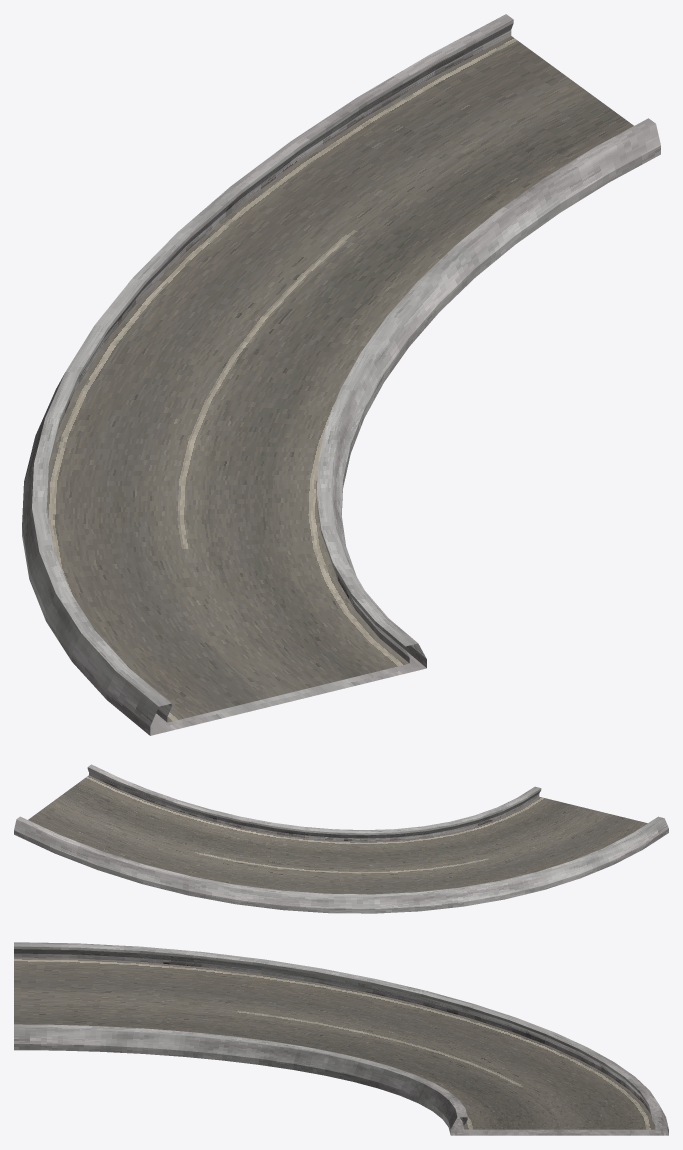
File: turn-right3x3.glb
3 views of the same model, one above another, from view 1: azimuth 30°, elevation 25°; view 2: azimuth 150°, elevation 25°; view 3: azimuth 270°, elevation 25° (orthographic). The views are drawn at different scales.
Visible parts, largest first — view 1: road-Turn-Flat-BiSlopeUp-Up2-Right-Size3; view 2: road-Turn-Flat-BiSlopeUp-Up2-Right-Size3; view 3: road-Turn-Flat-BiSlopeUp-Up2-Right-Size3.
Boxes of the visible parts, <box> form: road-Turn-Flat-BiSlopeUp-Up2-Right-Size3: <box>22,14,660,735</box>; road-Turn-Flat-BiSlopeUp-Up2-Right-Size3: <box>14,764,668,913</box>; road-Turn-Flat-BiSlopeUp-Up2-Right-Size3: <box>14,942,668,1135</box>.
Bounding box in the file's own units: 3 × 0.5938 × 3.
Materials: 2 (2 with a texture image).
